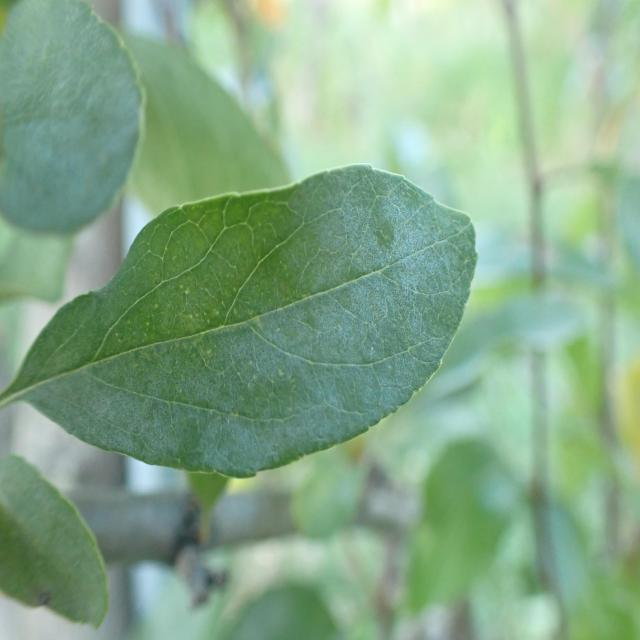Powdery_mildew: (18, 163, 470, 494), (0, 0, 173, 256)
